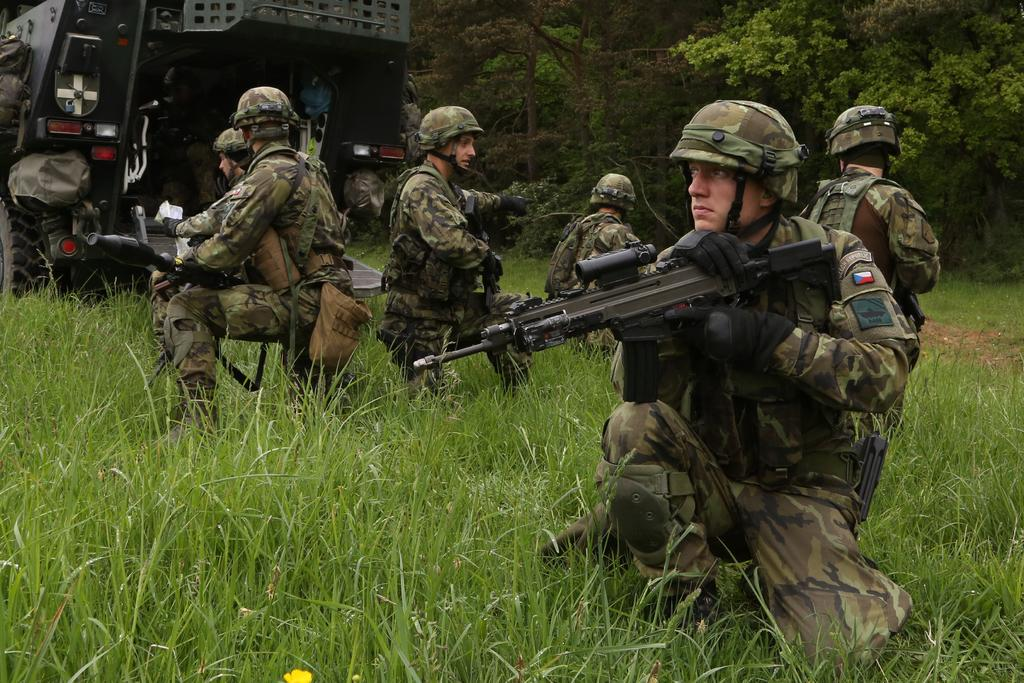non-violence: (596, 102, 908, 680), (148, 98, 327, 442), (375, 106, 548, 400), (794, 106, 938, 336), (546, 172, 656, 357), (162, 132, 258, 241)
weapon: (432, 216, 856, 550), (86, 229, 247, 293)
